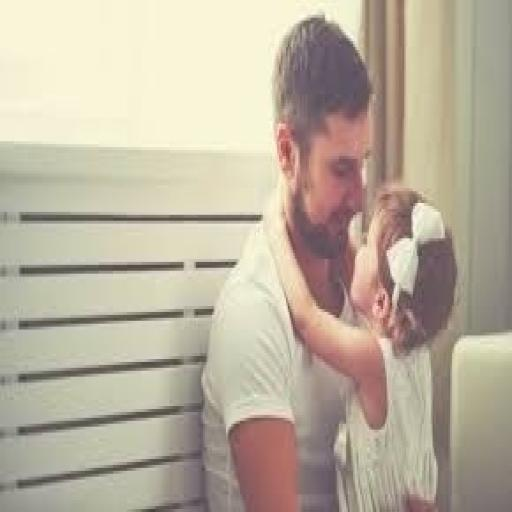hugging: (198, 12, 461, 509)
